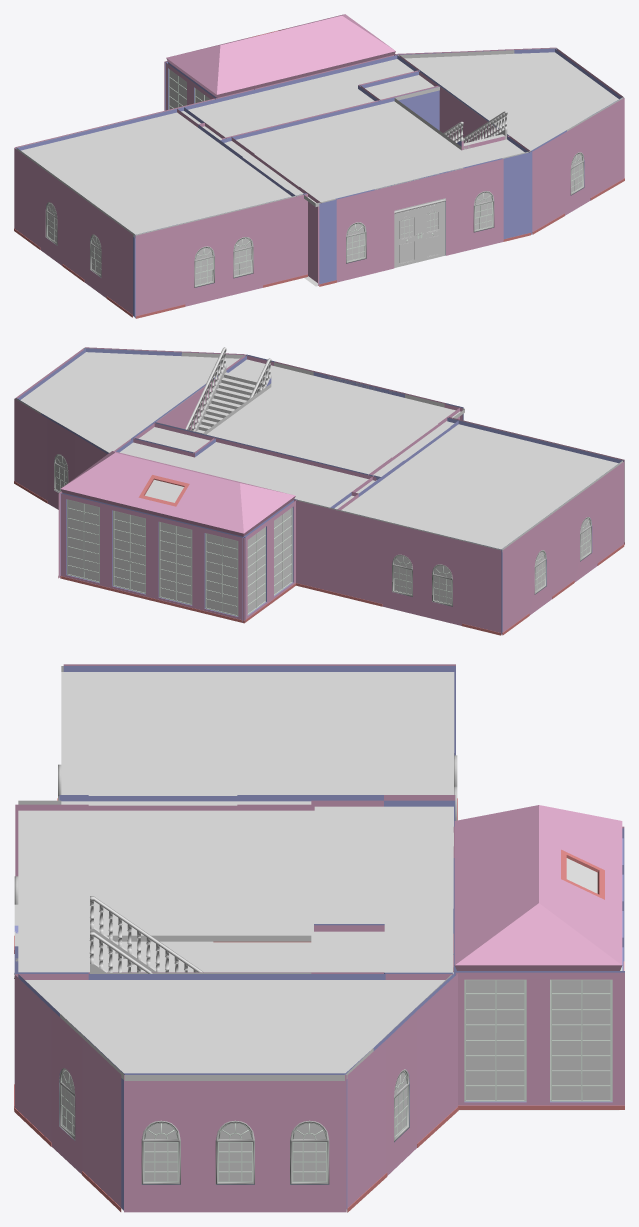
File: VR House_Erdgeschoss.fbx
3 renders of one model, top to bottom at view 1: azimuth 30°, elevation 25°; view 2: azimuth 150°, elevation 25°; view 3: azimuth 270°, elevation 25°, orthographic. The views are drawn at different scales.
Parts seen in each view (by area): view 1: Plane.004, Basic_Wall_01.047, Basic_Wall_01.015, Basic_Wall_01.030, Basic_Wall_01.032, Basic_Wall_01.034, Wall_Window_07.002, Wall_Window_07.001, Basic_Wall_01.033, Wall_Window_07.008, Wall_Window_07.011, Basic_Wall_01.029 (+17 smaller); view 2: Plane.004, Basic_Wall_01.047, Basic_Wall_01.010, Basic_Wall_01.023, Basic_Wall_01.022, Wall_Window_07.012, Wall_Window_07.013, Basic_Wall_01.019, Window_Left_01.002, Window_Left_01.004, Window_Left_01.003, Window_Left_01.001 (+22 smaller); view 3: Plane.004, Basic_Wall_01.047, Wall_Window_07.003, Wall_Window_07.005, Wall_Window_07.004, Window_Left_01.007, Window_Left_01.008, Basic_Wall_01.014, Plane.003, Basic_Wall_01.019, Basic_Wall_01.033, Basic_Wall_01.034 (+19 smaller).
Boxes of the visible parts, bbox=[...] form: Plane.004: bbox=[16, 48, 623, 237]; Basic_Wall_01.047: bbox=[166, 14, 395, 97]; Basic_Wall_01.015: bbox=[375, 168, 464, 272]; Basic_Wall_01.030: bbox=[140, 223, 185, 317]; Basic_Wall_01.032: bbox=[263, 193, 307, 287]; Basic_Wall_01.034: bbox=[589, 100, 621, 200]; Wall_Window_07.002: bbox=[463, 158, 503, 251]; Wall_Window_07.001: bbox=[335, 189, 375, 282]; Basic_Wall_01.033: bbox=[532, 132, 564, 233]; Wall_Window_07.008: bbox=[224, 205, 262, 297]; Wall_Window_07.011: bbox=[185, 214, 223, 306]; Basic_Wall_01.029: bbox=[106, 216, 134, 317]; Plane.004: bbox=[15, 348, 622, 551]; Basic_Wall_01.047: bbox=[60, 451, 295, 536]; Basic_Wall_01.010: bbox=[296, 499, 341, 596]; Basic_Wall_01.023: bbox=[462, 540, 502, 635]; Basic_Wall_01.022: bbox=[342, 511, 382, 606]; Wall_Window_07.012: bbox=[422, 530, 462, 625]; Wall_Window_07.013: bbox=[382, 522, 423, 616]; Basic_Wall_01.019: bbox=[16, 400, 49, 503]; Window_Left_01.002: bbox=[159, 521, 192, 605]; Window_Left_01.004: bbox=[205, 533, 238, 616]; Window_Left_01.003: bbox=[67, 499, 99, 582]; Window_Left_01.001: bbox=[113, 510, 145, 593]; Plane.004: bbox=[18, 666, 454, 1080]; Basic_Wall_01.047: bbox=[454, 805, 622, 970]; Wall_Window_07.003: bbox=[272, 1073, 346, 1212]; Wall_Window_07.005: bbox=[124, 1073, 198, 1212]; Wall_Window_07.004: bbox=[198, 1073, 272, 1212]; Window_Left_01.007: bbox=[464, 979, 526, 1101]; Window_Left_01.008: bbox=[550, 979, 612, 1101]; Basic_Wall_01.014: bbox=[413, 978, 453, 1147]; Plane.003: bbox=[115, 941, 618, 1210]; Basic_Wall_01.019: bbox=[347, 1039, 387, 1209]; Basic_Wall_01.033: bbox=[16, 976, 54, 1146]; Basic_Wall_01.034: bbox=[82, 1038, 120, 1207].
Bounding box in the file's own units: 2620 × 545 × 1645.
